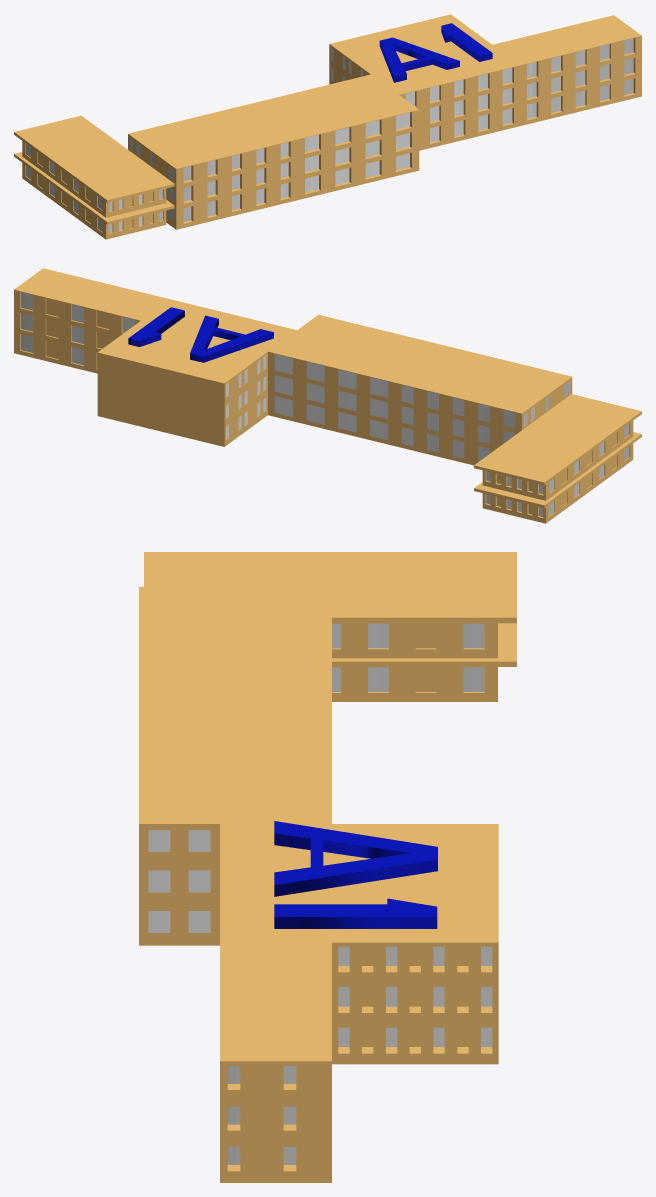
Rendered from BuildingA1.obj.
The picture shows the model from 3 angles, top to bottom: view 1: azimuth 30°, elevation 25°; view 2: azimuth 150°, elevation 25°; view 3: azimuth 270°, elevation 25°; orthographic projection. The views are drawn at different scales.
Parts seen in each view (by area): view 1: Plane.072, Plane.046, Text.038; view 2: Plane.072, Plane.046, Text.038; view 3: Plane.072, Plane.046, Text.038.
Boxes of the visible parts, box(x1,y1,x2,y2) form: Plane.072: box(128, 14, 641, 229); Plane.046: box(14, 115, 174, 239); Text.038: box(379, 23, 492, 82); Plane.072: box(14, 268, 572, 465); Plane.046: box(474, 394, 641, 523); Text.038: box(128, 307, 273, 362); Plane.072: box(139, 587, 498, 1182); Plane.046: box(144, 552, 516, 701); Text.038: box(274, 821, 437, 928).
Size of the model in its own units: 45.82 by 5.27 by 13.54.
